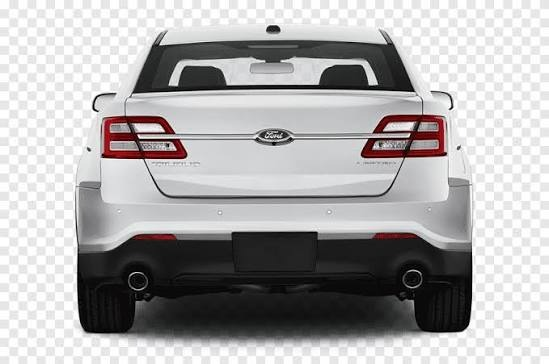car: (74, 23, 466, 335)
